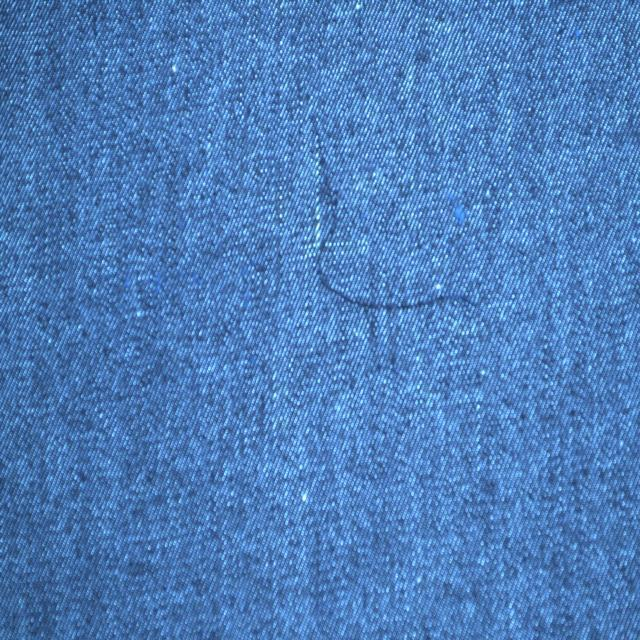defect: (305, 114, 479, 322)
